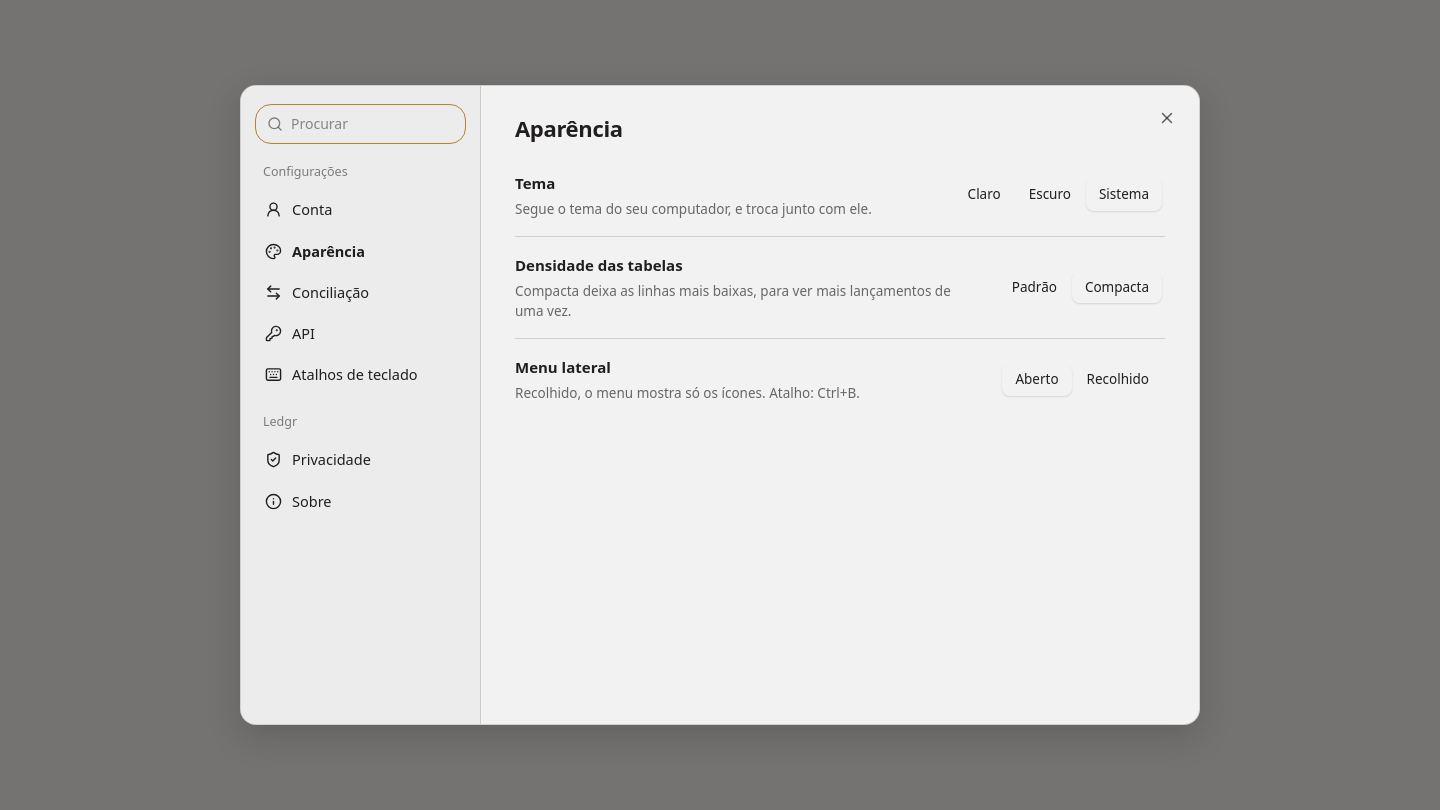
Test: Configuracoes › the date tolerance › stops at the limits
Click the button "Conciliação": (360, 292) [255,273,466,312]
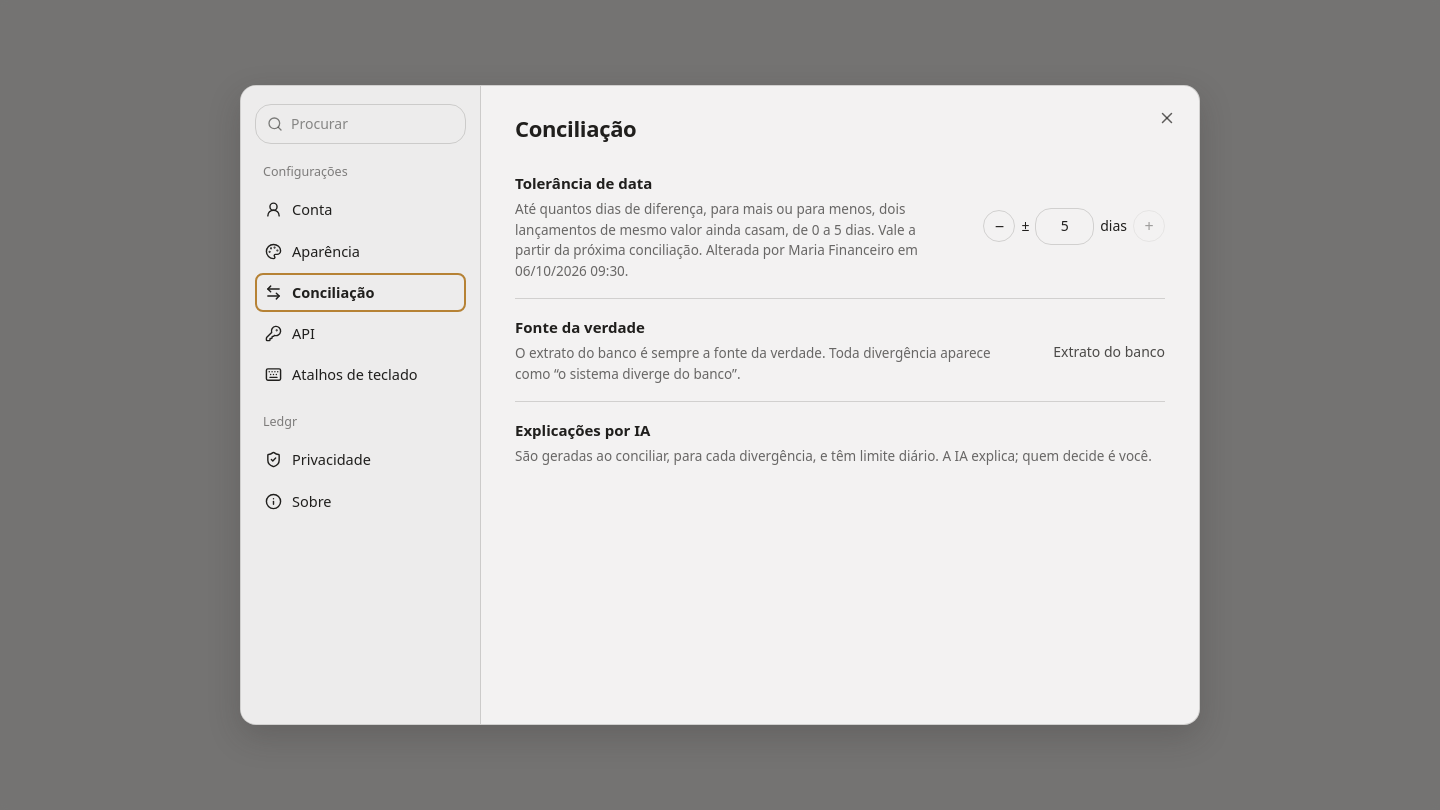
expect the button named "Um dia a mais" is disabled: met, box [1133,210,1165,242]
Clear the number field named "Tolerância de data, em dias para mais ou para menos": (1065, 226) [1035,208,1094,245]
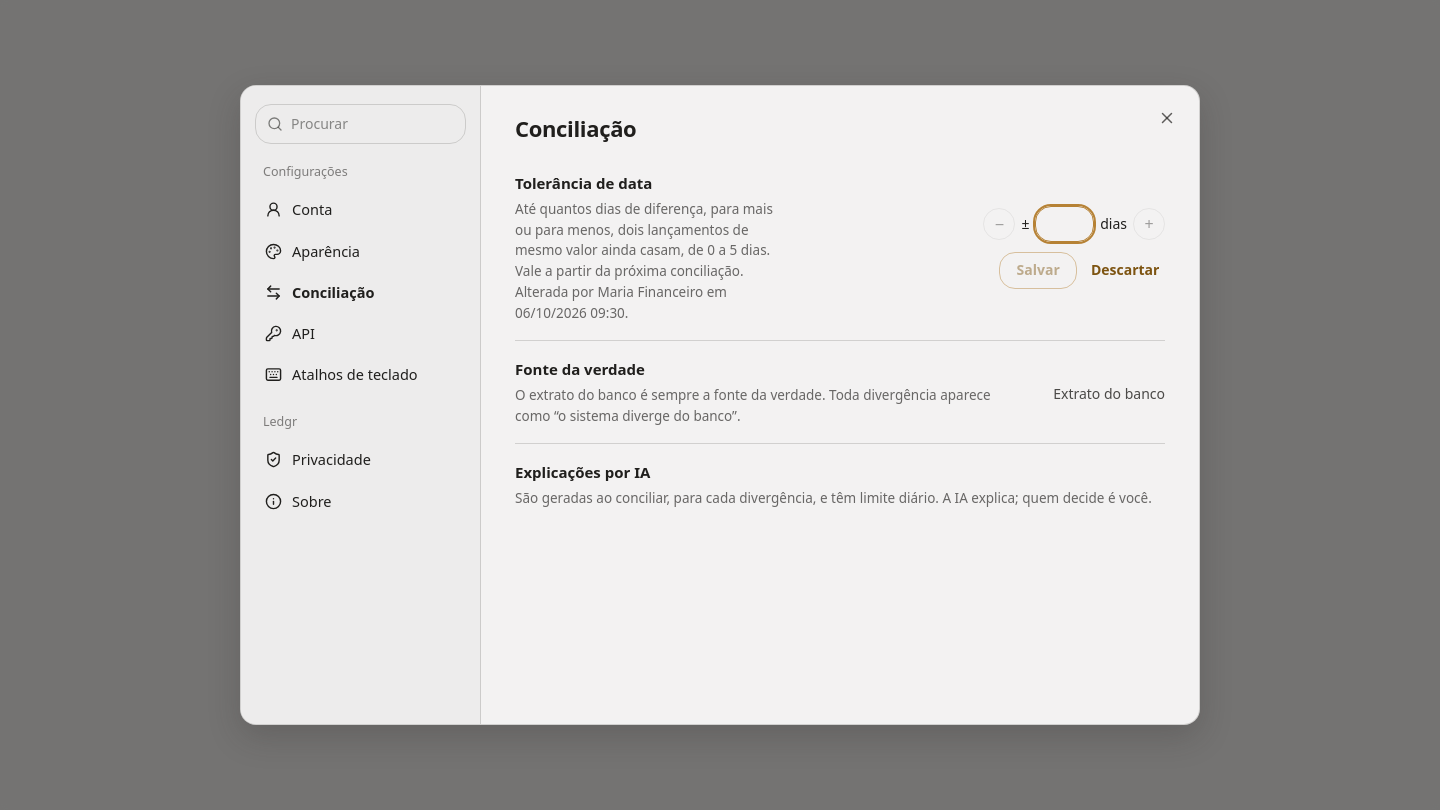
In the number field named "Tolerância de data, em dias para mais ou para menos": (1065, 224) [1035,206,1094,242], type "9"
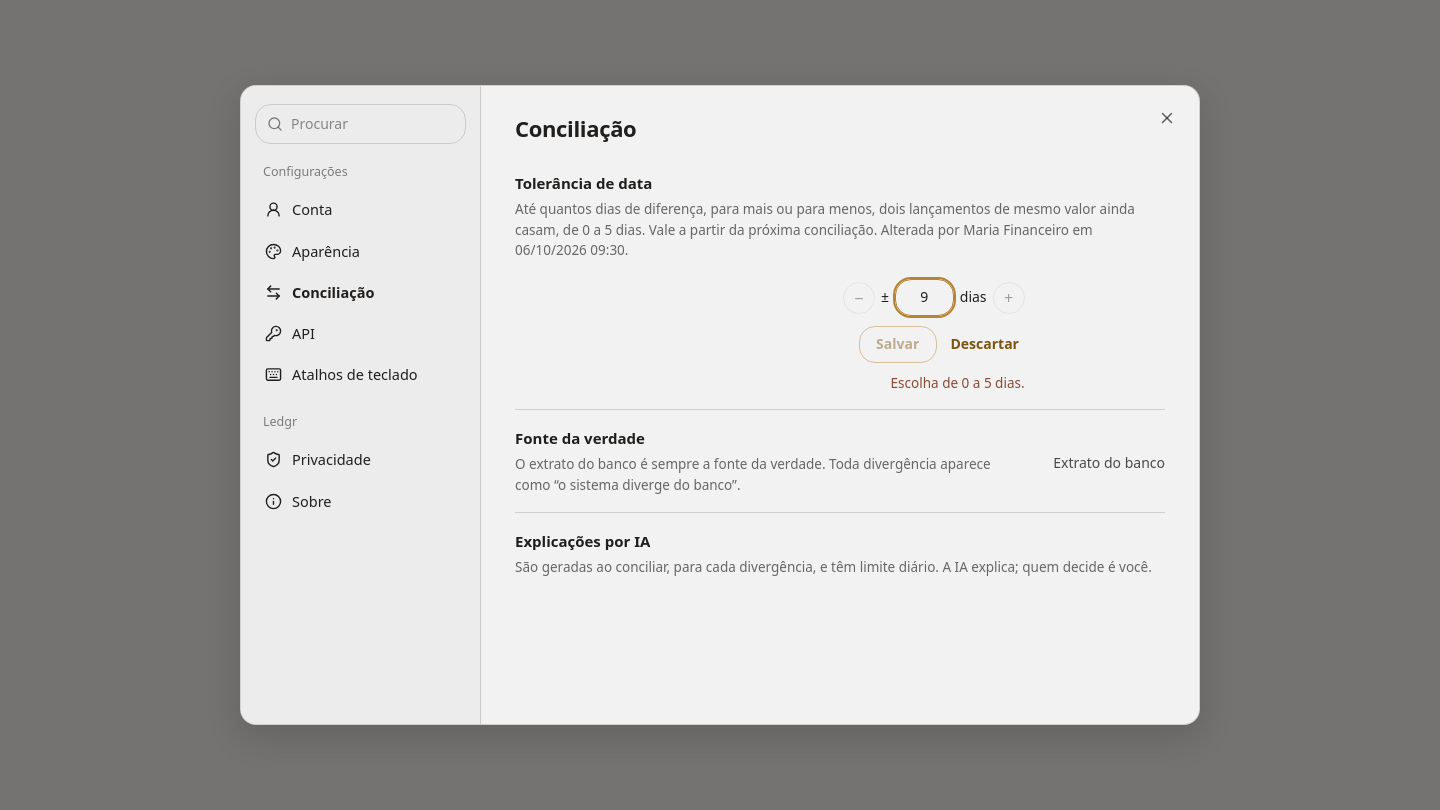
expect the button "Salvar" is disabled: met, box [859,326,937,363]
expect the text "Escolha de 0 a 5 dias." is shown: met, box [891,374,1025,392]
